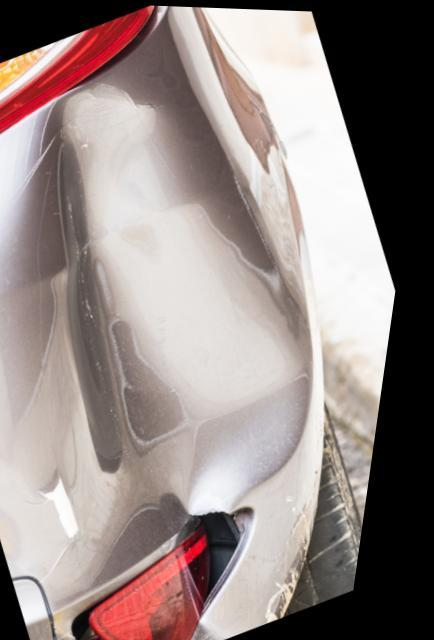dent: (32, 85, 321, 586)
scratch: (275, 481, 328, 624)
